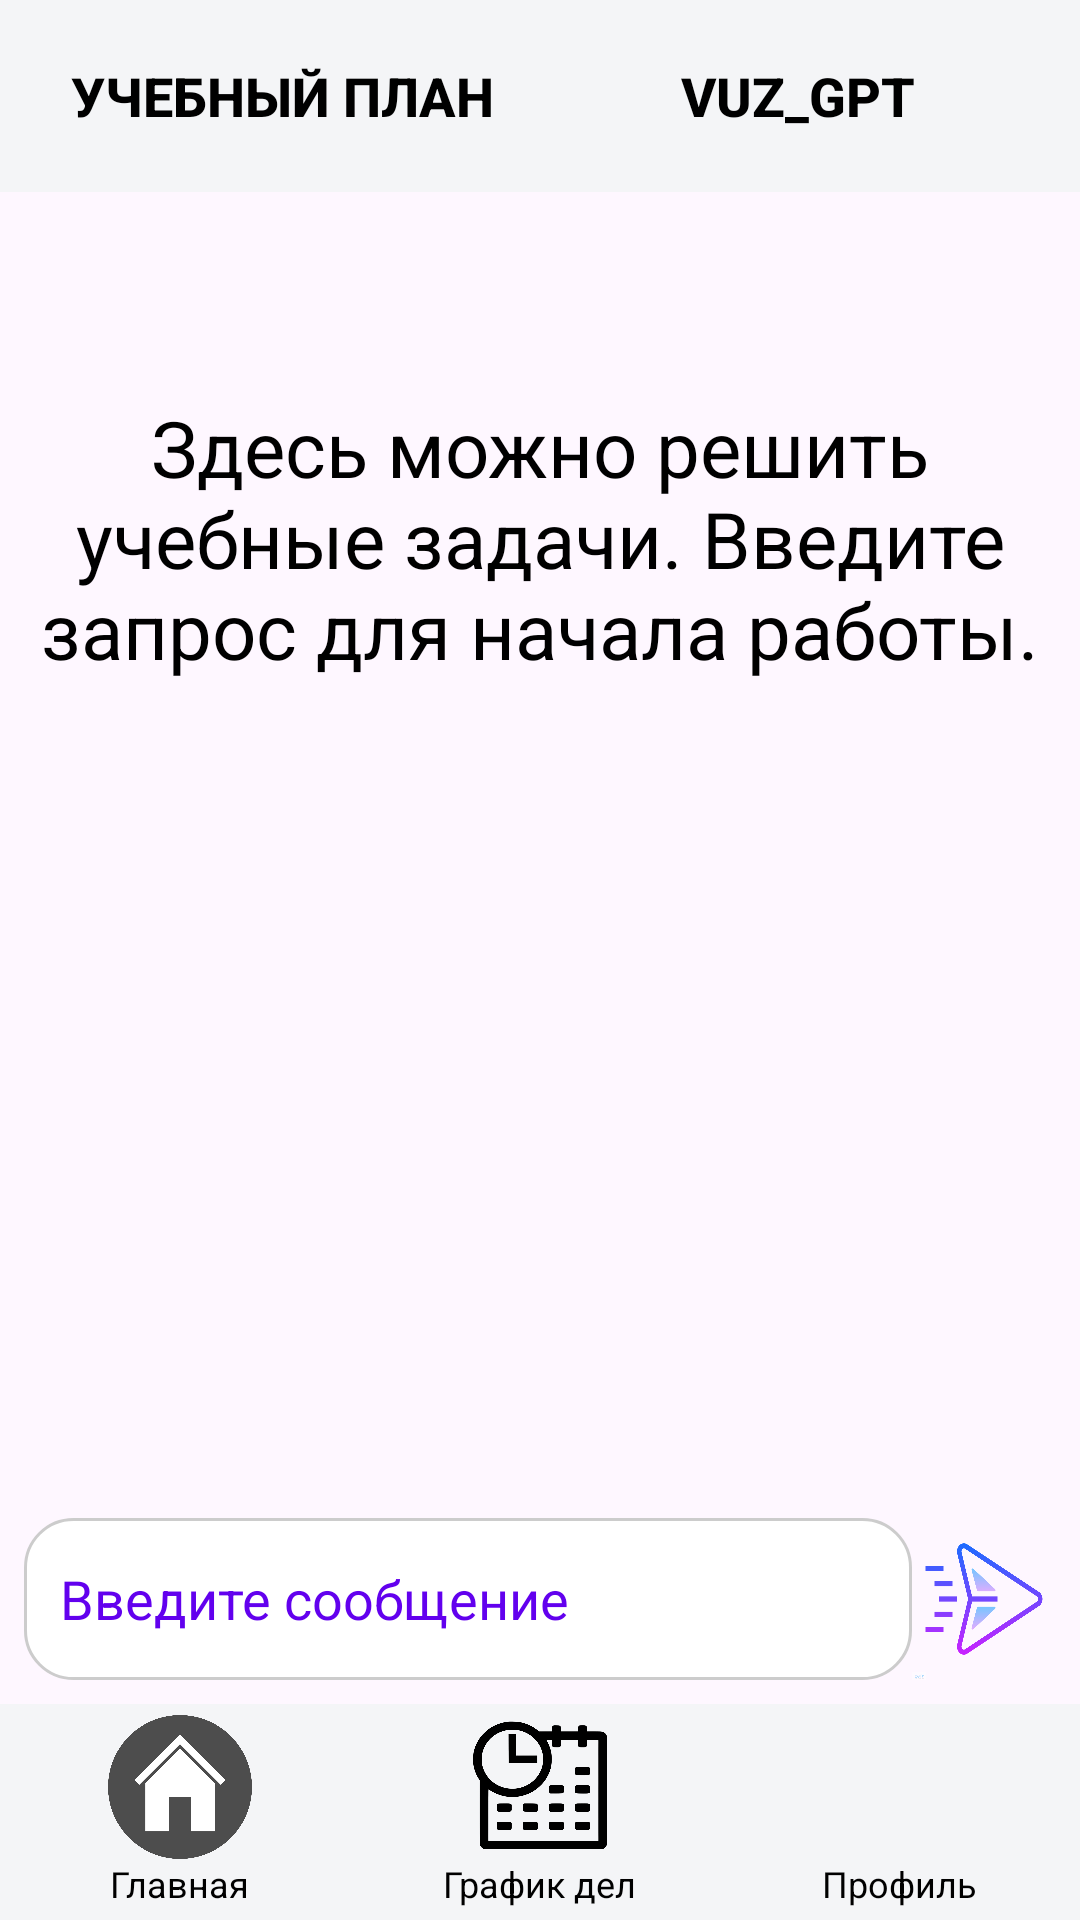

Screen size 1080×1920. Icon name, then its box in pixels as rect(x1, y1, x2, y2):
Отправить сообщение: rect(915, 1543, 1043, 1678)
